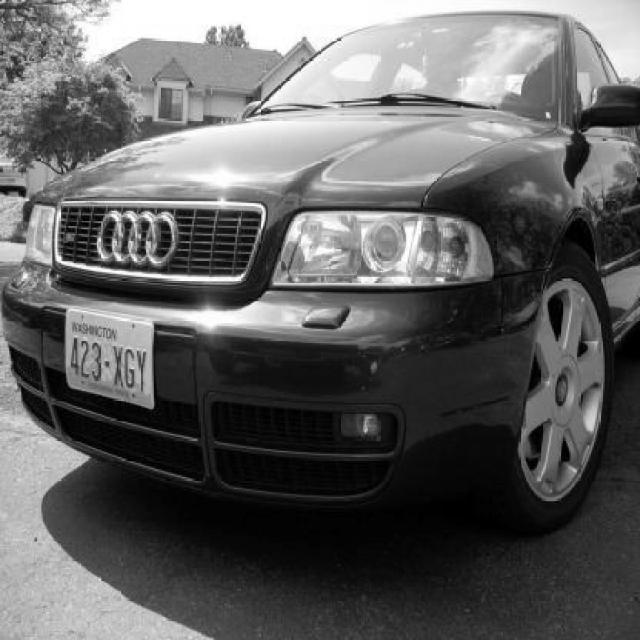car: (0, 10, 640, 548)
license-plate: (62, 308, 162, 415)
